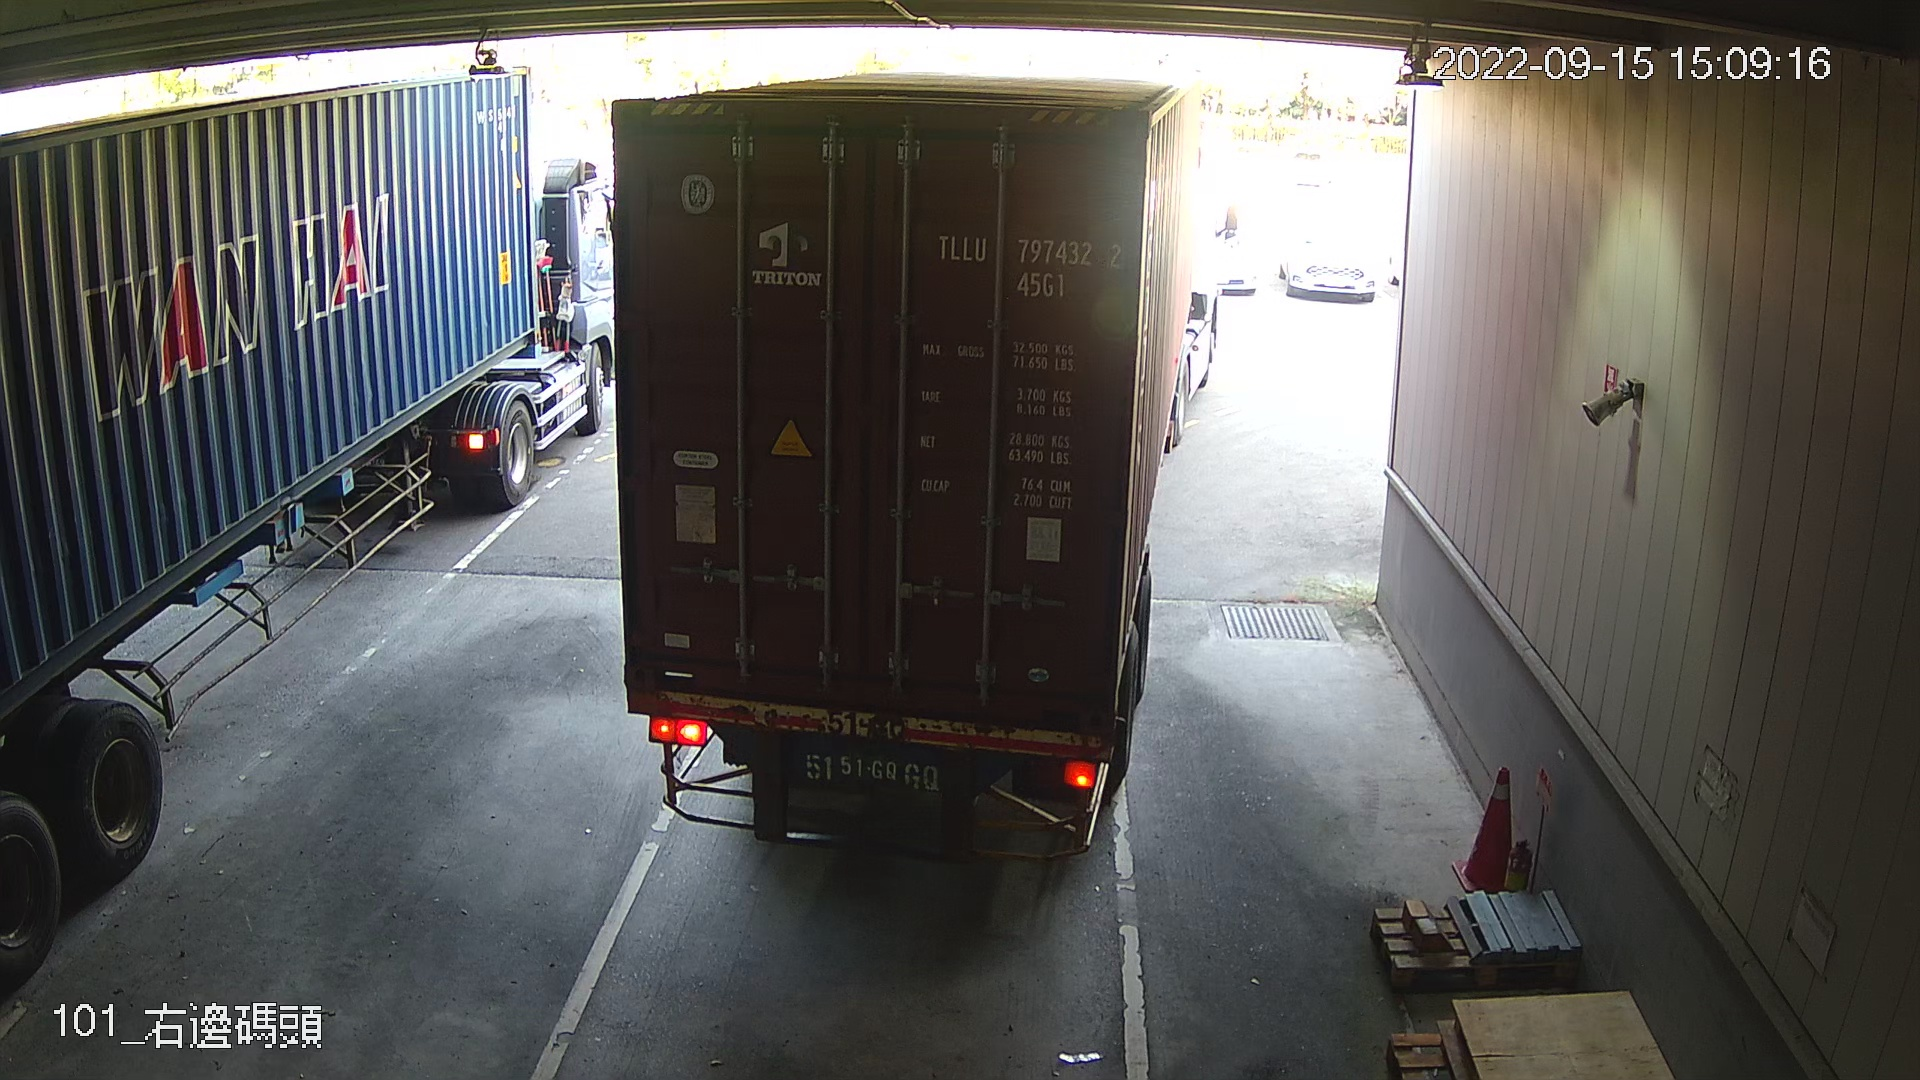container: (926, 223, 1134, 302)
